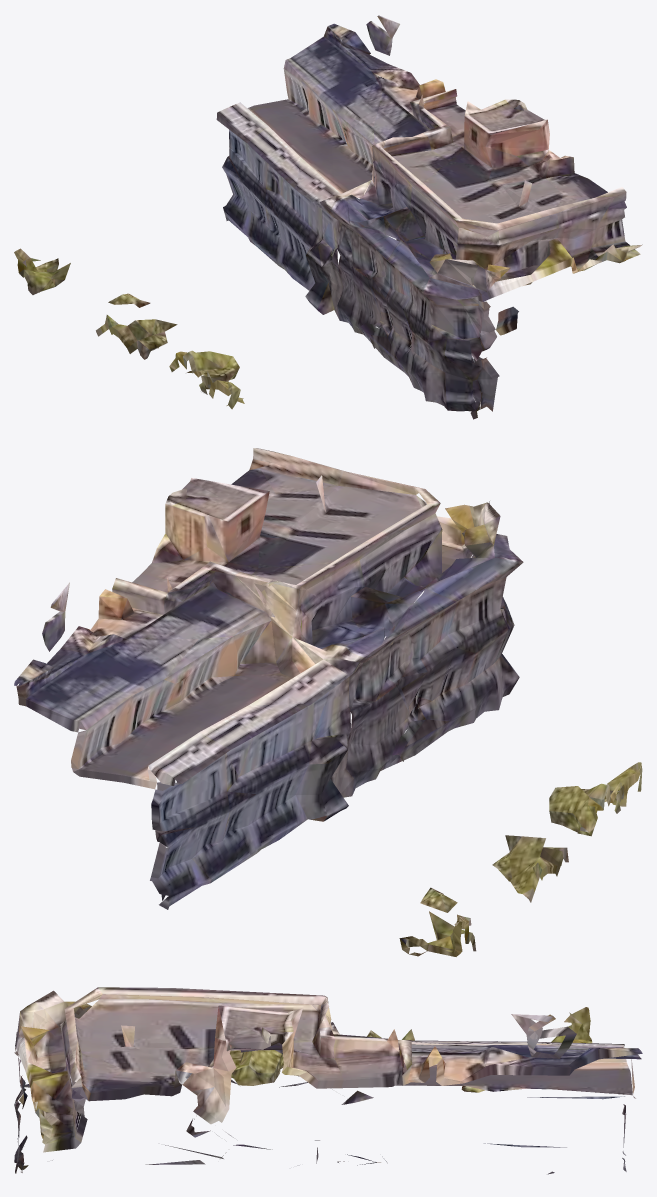
The picture shows the model from 3 angles, top to bottom: view 1: azimuth 30°, elevation 25°; view 2: azimuth 150°, elevation 25°; view 3: azimuth 270°, elevation 25°; orthographic projection. The views are drawn at different scales.
Parts seen in each view (by area): view 1: Mesh_0; view 2: Mesh_0; view 3: Mesh_0.
Boxes of the visible parts, x1,y1,x2,y2 form: Mesh_0: (14, 15, 642, 419); Mesh_0: (14, 448, 642, 956); Mesh_0: (14, 987, 642, 1174).
Size of the model in its own units: 33.32 by 16.62 by 39.89.
Materials: 1 (1 with a texture image).
